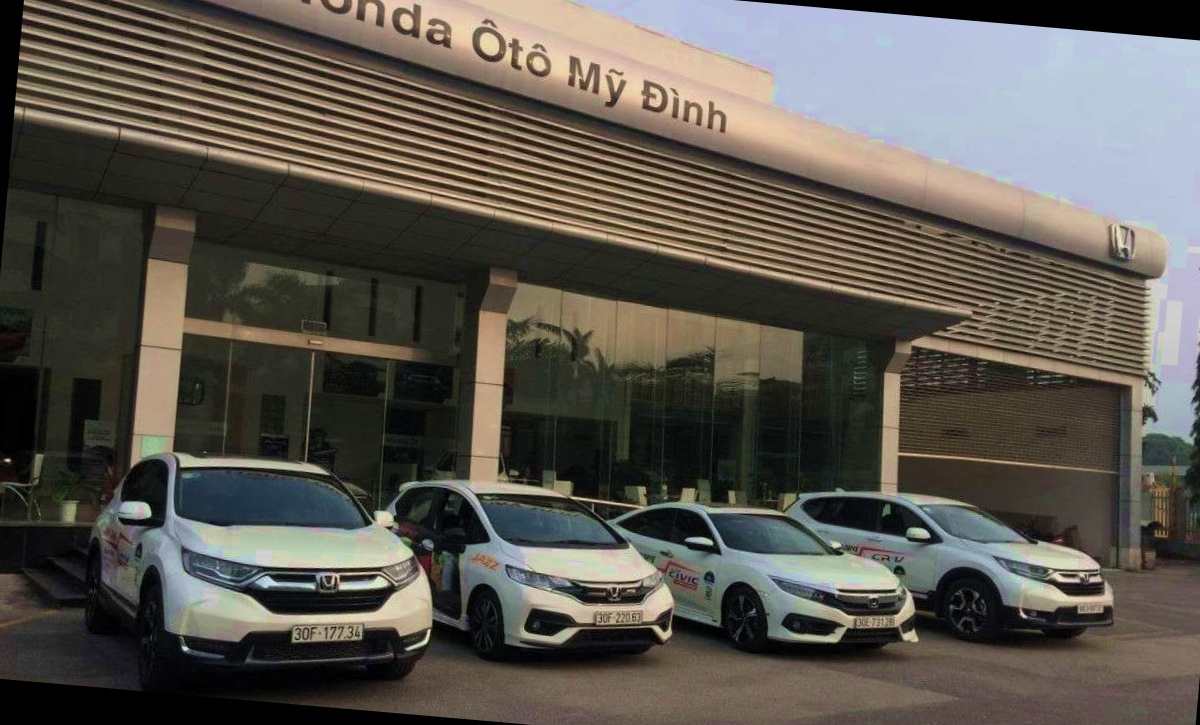Bien-so: (300, 612, 376, 650), (590, 595, 647, 626), (836, 594, 878, 615), (1046, 568, 1077, 590)
